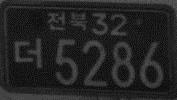2: (82, 39, 108, 88), (110, 12, 127, 36)
3: (91, 11, 108, 36)
5: (55, 38, 79, 86)
6: (137, 40, 164, 90)
8: (110, 40, 135, 88)
더: (14, 36, 43, 69)
전북_O: (46, 10, 88, 31)
